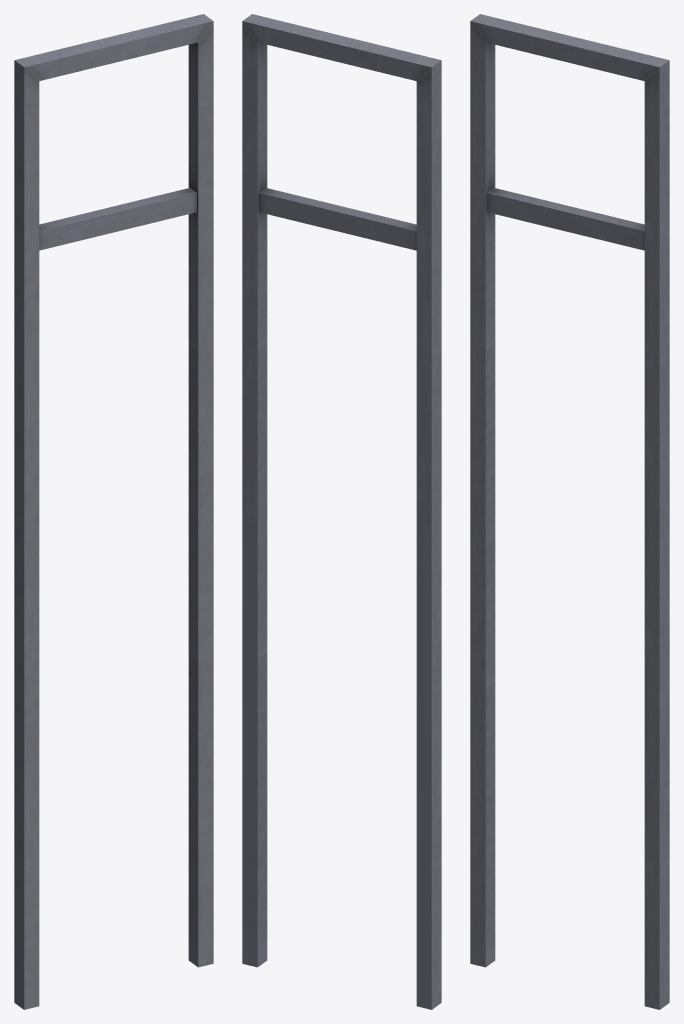
Rendered from pipe_support_large.FBX.
3 renders of one model, left to right at view 1: azimuth 30°, elevation 25°; view 2: azimuth 150°, elevation 25°; view 3: azimuth 330°, elevation 25°, orthographic.
Visible parts, largest first — view 1: Box007; view 2: Box007; view 3: Box007.
Part boxes in pixels (left/top/right/bottom): Box007: left=14, top=14, right=213, bottom=1009; Box007: left=242, top=14, right=441, bottom=1009; Box007: left=470, top=14, right=669, bottom=1009.
Size of the model in its own units: 28.89 by 137 by 2.57.
Materials: 1 (1 with a texture image).
